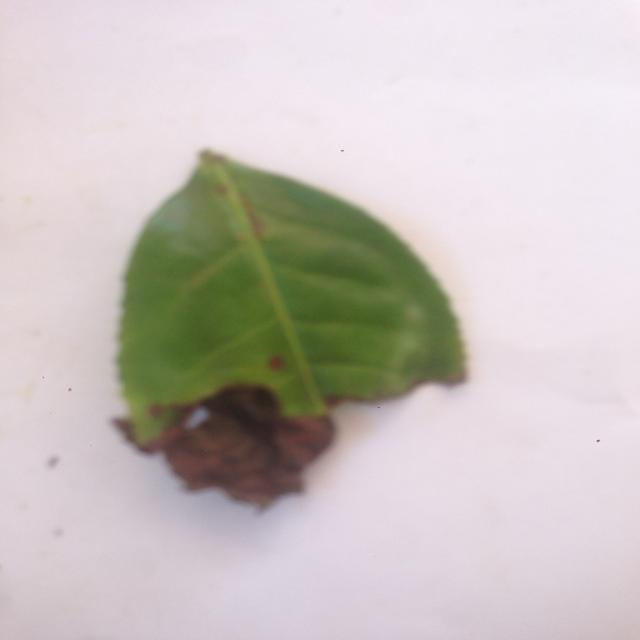Brown Blight: (95, 140, 480, 505)
